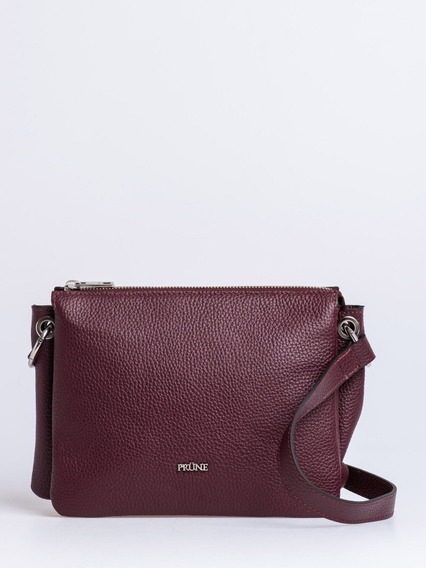cartera: (21, 278, 371, 519)
